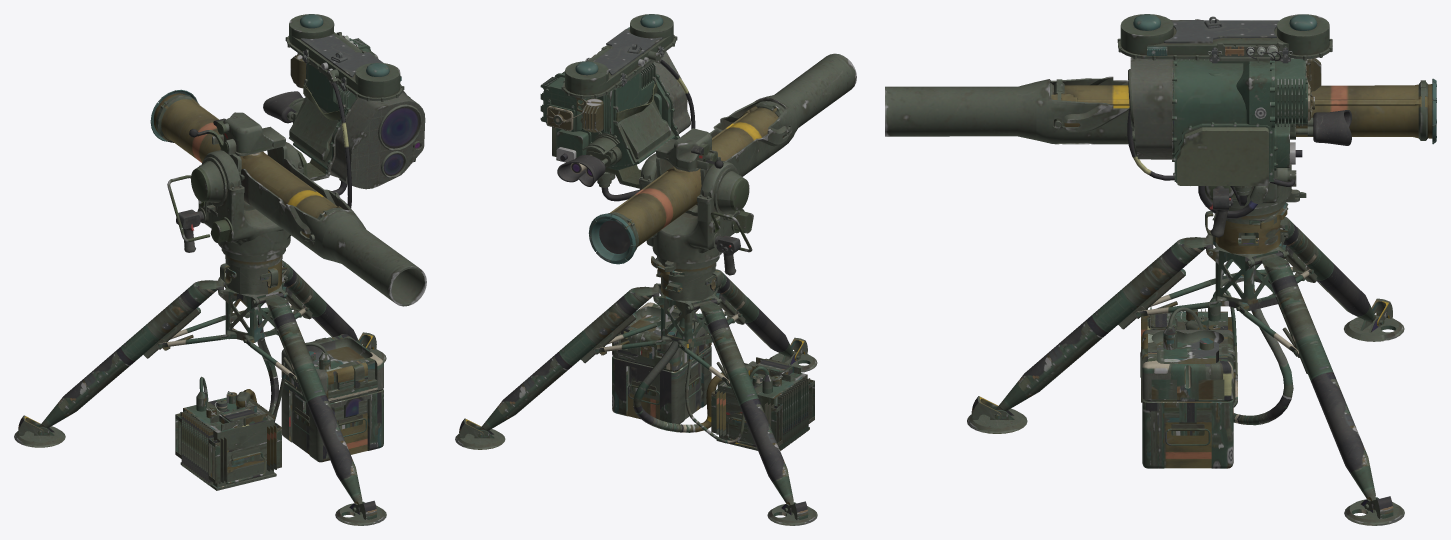
The model's file is VEH_Stationary_BGM71TOW.glb.
The picture shows the model from 3 angles, left to right: view 1: azimuth 30°, elevation 25°; view 2: azimuth 150°, elevation 25°; view 3: azimuth 270°, elevation 25°; orthographic projection. The views are drawn at different scales.
Parts seen in each view (by area): view 1: ob_veh_stationary_bgm71tow_base_s1, ob_veh_stationary_bgm71tow_base_s0; view 2: ob_veh_stationary_bgm71tow_base_s1, ob_veh_stationary_bgm71tow_base_s0; view 3: ob_veh_stationary_bgm71tow_base_s1, ob_veh_stationary_bgm71tow_base_s0.
Part boxes in pixels (x1,y1,x2,y2): ob_veh_stationary_bgm71tow_base_s1: [150, 14, 426, 306]; ob_veh_stationary_bgm71tow_base_s0: [14, 259, 386, 525]; ob_veh_stationary_bgm71tow_base_s1: [540, 14, 856, 275]; ob_veh_stationary_bgm71tow_base_s0: [455, 256, 817, 525]; ob_veh_stationary_bgm71tow_base_s1: [885, 14, 1436, 237]; ob_veh_stationary_bgm71tow_base_s0: [967, 203, 1404, 525].
Size of the model in its own units: 1.77 by 1.78 by 1.97.
Materials: 2 (2 with a texture image).
